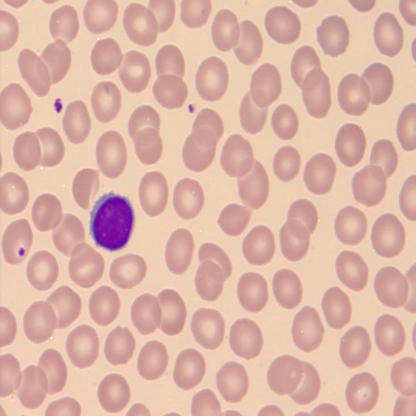Lymphocyte: (88, 191, 135, 253)
